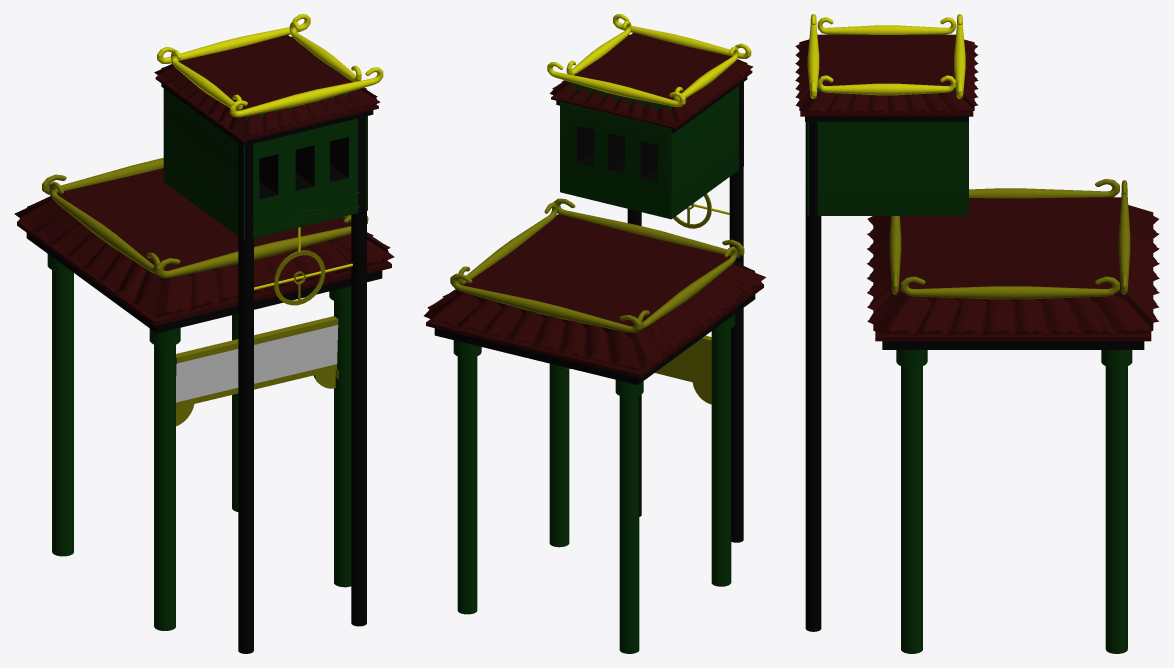
File: Casaaa.fbx
3 renders of one model, left to right at view 1: azimuth 30°, elevation 25°; view 2: azimuth 150°, elevation 25°; view 3: azimuth 270°, elevation 25°, orthographic. The views are drawn at different scales.
Visible parts, largest first — view 1: Entrada; view 2: Entrada; view 3: Entrada.
Part boxes in pixels (bbox=[...]): Entrada: bbox=[14, 14, 394, 653]; Entrada: bbox=[424, 14, 766, 653]; Entrada: bbox=[795, 14, 1159, 653].
Bounding box in the file's own units: 39.8 × 83.59 × 49.52.
